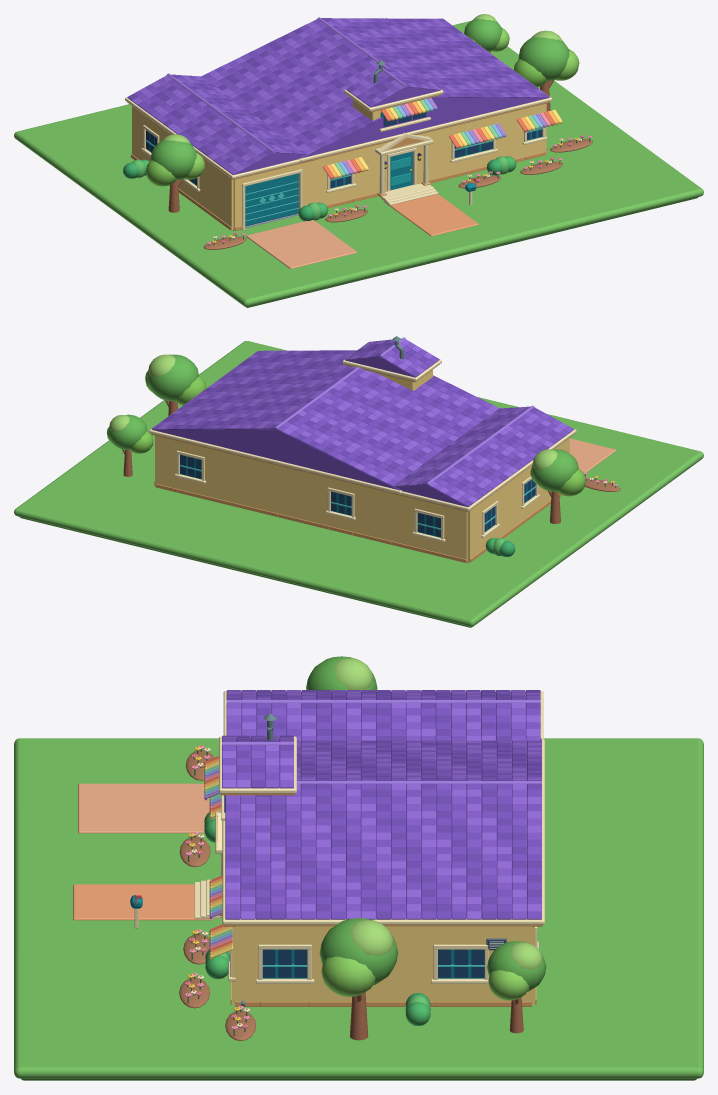
The model's file is house-map.glb.
3 views of the same model, one above another, from view 1: azimuth 30°, elevation 25°; view 2: azimuth 150°, elevation 25°; view 3: azimuth 270°, elevation 25° (orthographic). The views are drawn at different scales.
Visible parts, largest first — view 1: Rounded lawn island, Wall masonry (×8), Leaf canopy (×5), Roof gable (×3), Garage driveway, Garage door, Front path, Ivory eaves (×2), Lower lawn edge; view 2: Rounded lawn island, Wall masonry (×8), Roof gable (×3), Leaf canopy (×5), Ivory eaves (×2), Garage driveway, Lower lawn edge; view 3: Rounded lawn island, Wall masonry (×7), Leaf canopy (×8), Garage driveway, Front path, Roof gable (×2), Ivory eaves (×2), Lower lawn edge, Rounded ridge cap (×2), Tapered trunk.
Boxes of the visible parts, x1,y1,x2,y2 form: Rounded lawn island: (14, 21, 703, 306); Wall masonry (×8): (132, 106, 525, 230); Leaf canopy (×5): (145, 19, 569, 186); Roof gable (×3): (234, 87, 548, 174); Garage driveway: (246, 220, 357, 268); Garage door: (245, 173, 298, 226); Front path: (384, 194, 478, 236); Ivory eaves (×2): (125, 19, 552, 178); Lower lawn edge: (246, 197, 698, 307); Rounded lawn island: (14, 341, 703, 626); Wall masonry (×8): (155, 436, 522, 562); Roof gable (×3): (152, 357, 467, 506); Leaf canopy (×5): (108, 354, 585, 496); Ivory eaves (×2): (149, 354, 576, 510); Garage driveway: (569, 438, 616, 472); Lower lawn edge: (20, 517, 471, 627); Rounded lawn island: (14, 738, 703, 1078); Wall masonry (×7): (235, 926, 531, 1001); Leaf canopy (×8): (306, 656, 546, 1000); Garage driveway: (78, 783, 209, 833); Front path: (73, 884, 213, 920); Roof gable (×2): (240, 692, 541, 919); Ivory eaves (×2): (219, 736, 544, 924); Lower lawn edge: (21, 1078, 696, 1080); Rounded ridge cap (×2): (226, 700, 541, 784); Tapered trunk: (349, 992, 368, 1040).
Size of the model in its own units: 32 by 8.88 by 28.
